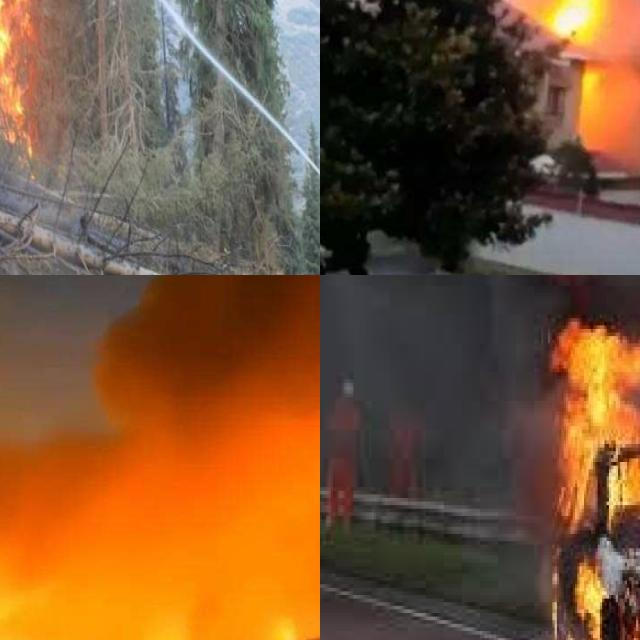fire: (545, 314, 640, 640), (156, 555, 320, 640), (547, 0, 632, 139)
smoke: (0, 275, 320, 591), (320, 275, 543, 519)
